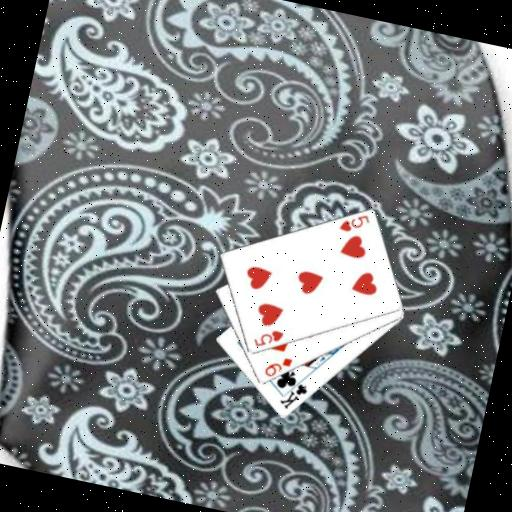5H: (335, 207, 372, 238), (249, 323, 286, 353)
9D: (260, 351, 295, 383)
KC: (275, 371, 311, 414)
